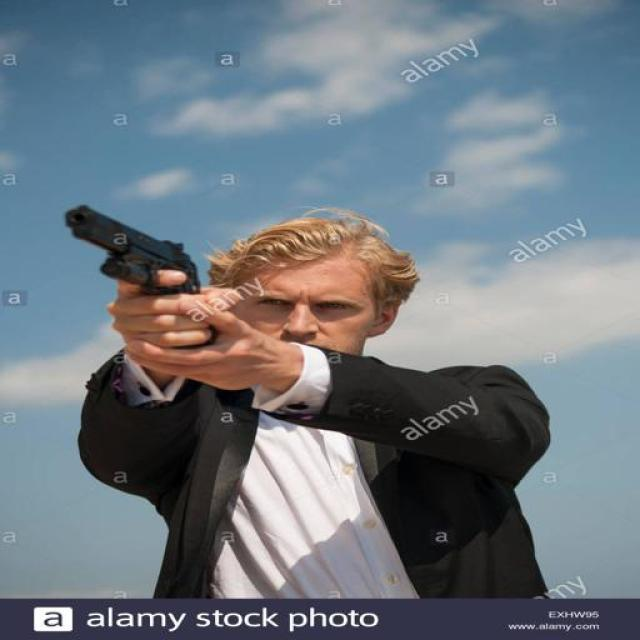pistol: (56, 199, 224, 351)
